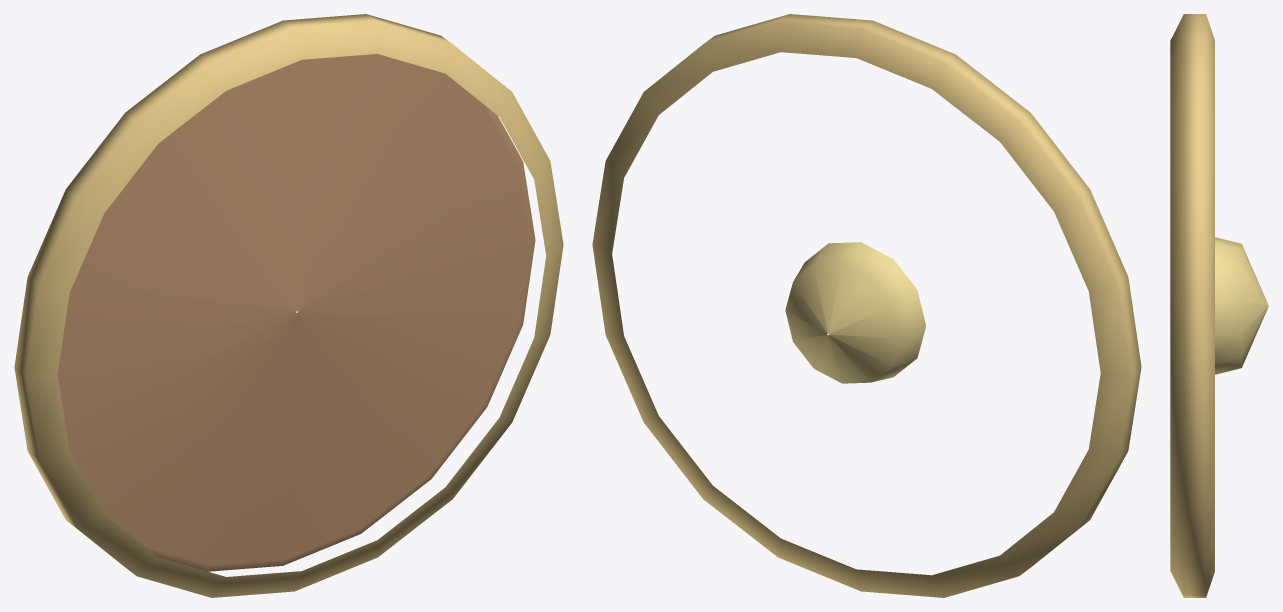
The model's file is Shield.glb.
The picture shows the model from 3 angles, left to right: view 1: azimuth 30°, elevation 25°; view 2: azimuth 150°, elevation 25°; view 3: azimuth 270°, elevation 25°; orthographic projection. The views are drawn at different scales.
Visible parts, largest first — view 1: Shield; view 2: Shield; view 3: Shield.
Boxes of the visible parts, x1,y1,x2,y2 form: Shield: (14,14,563,597); Shield: (592,14,1141,597); Shield: (1170,14,1268,597).
Size of the model in its own units: 0.66 by 0.66 by 0.11.
